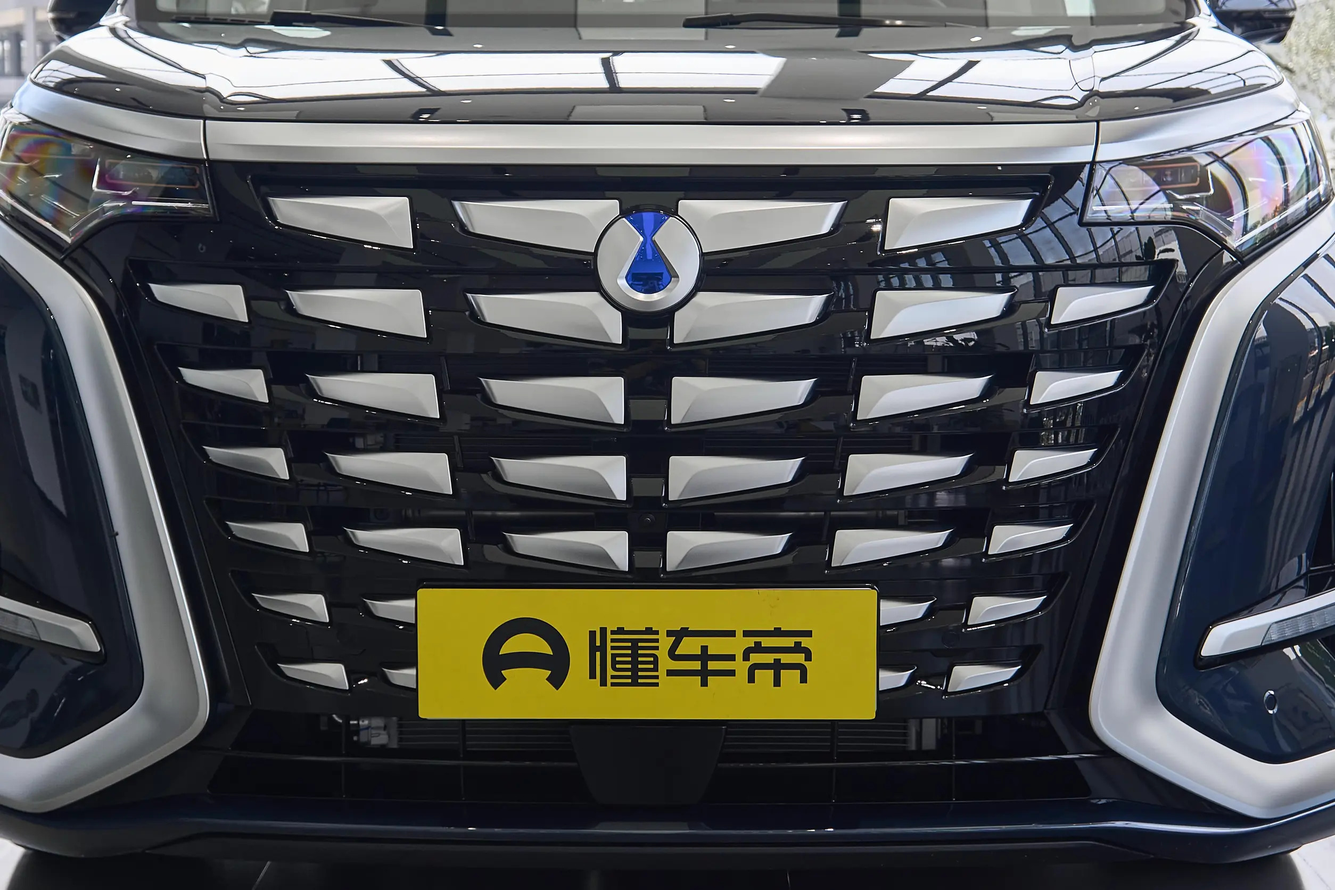DENZA: (598, 211, 699, 310)
